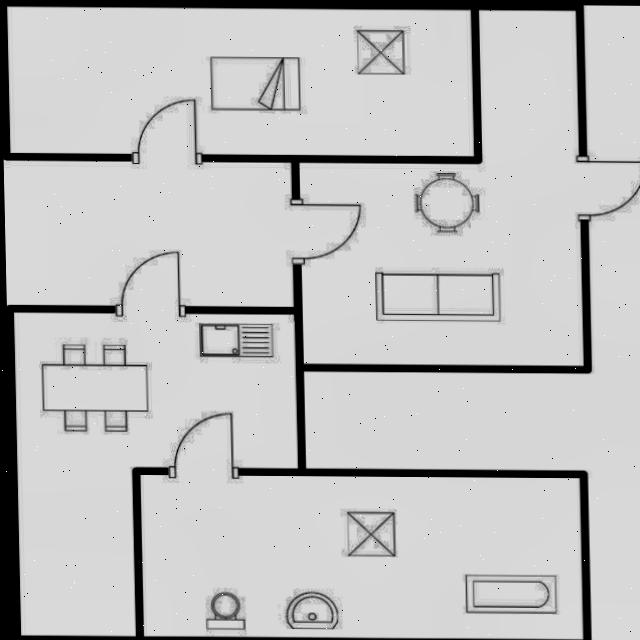room: (296, 7, 583, 371), (14, 307, 300, 637), (139, 474, 585, 639), (6, 5, 474, 155)
